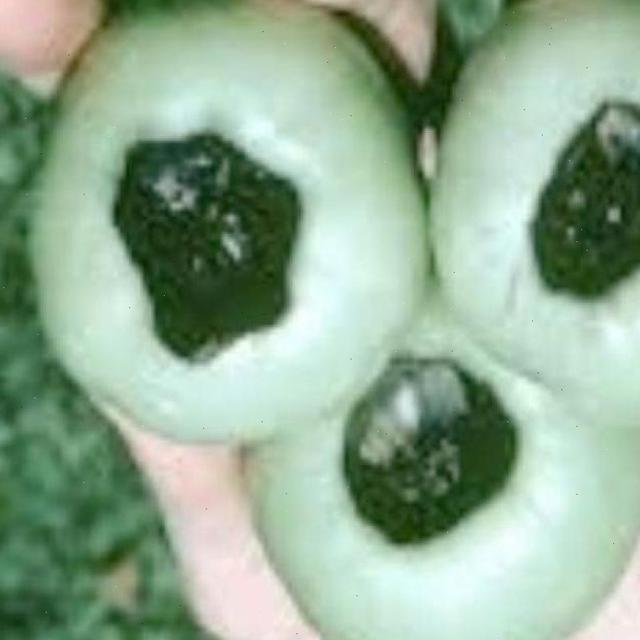Blossom End Rot Fruit: (71, 132, 391, 302)
